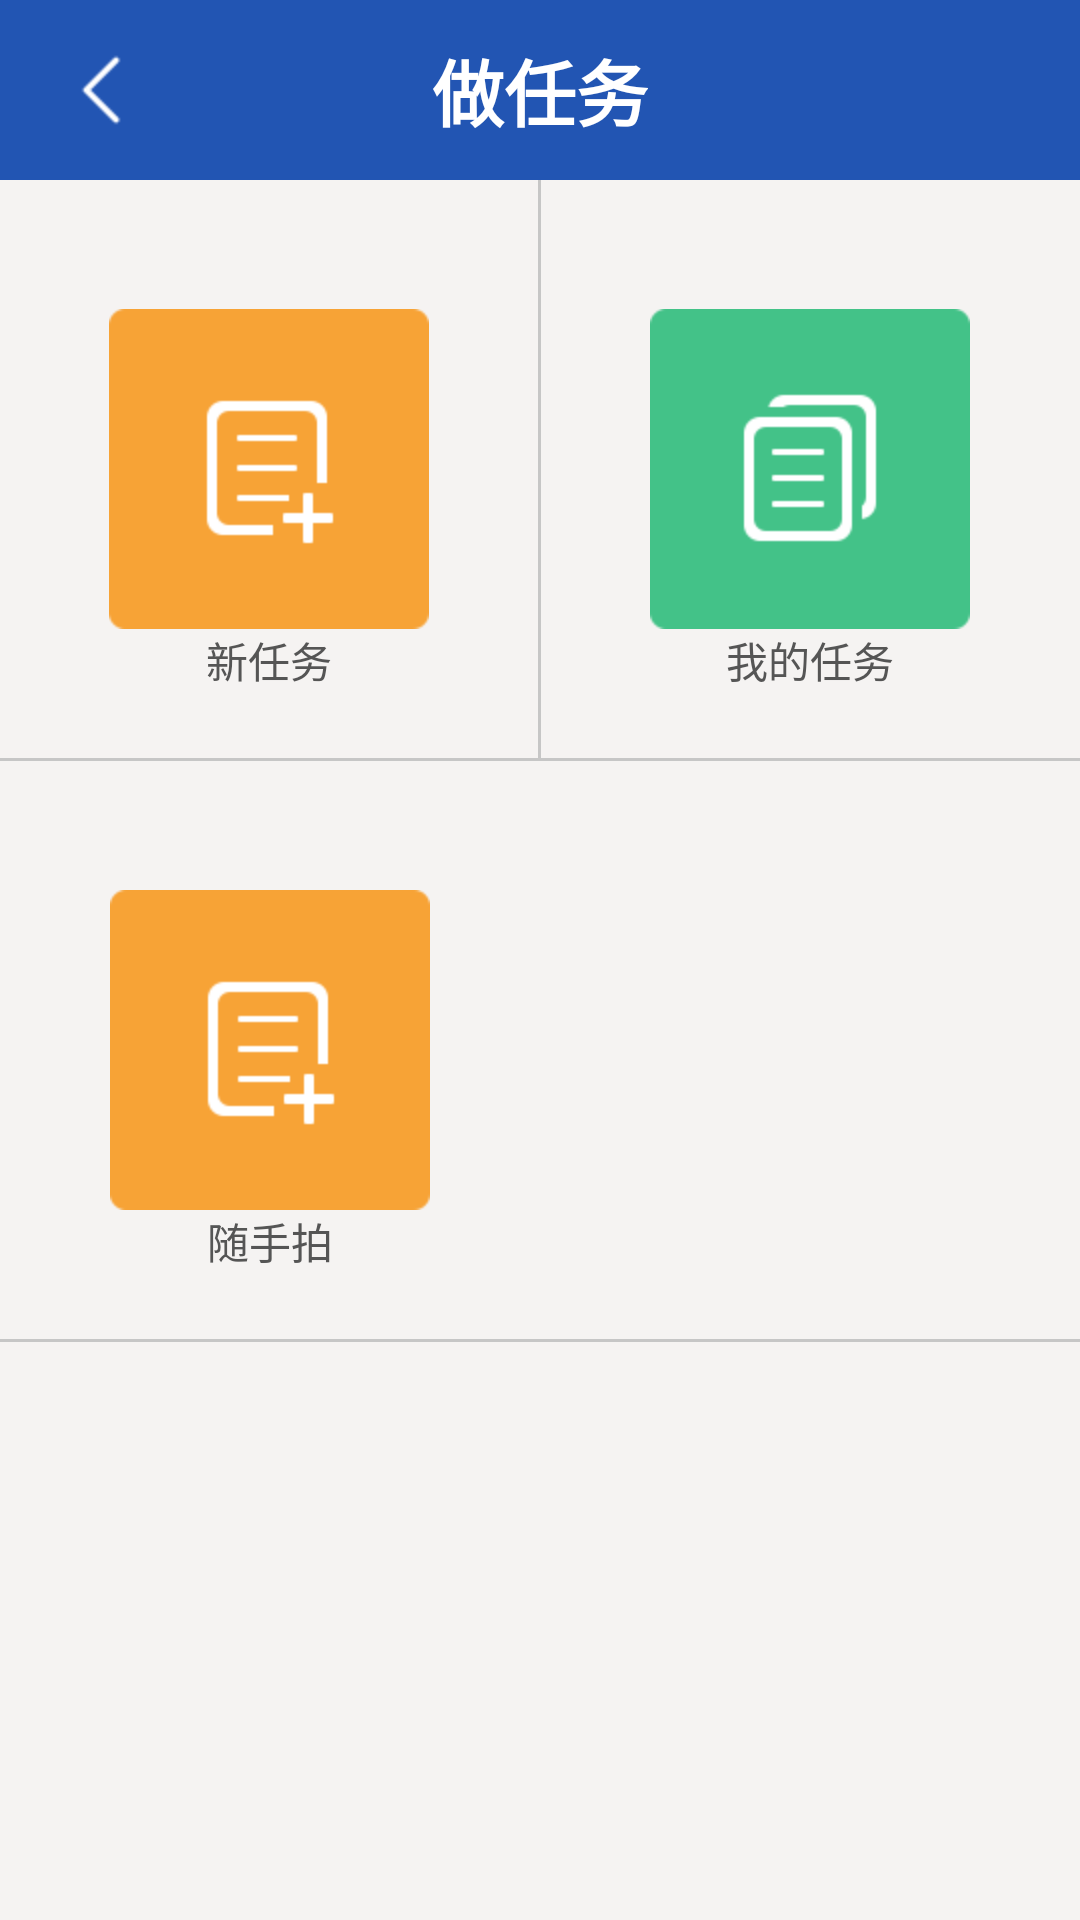

Screen size 1080px x 1920px. Icon name, then its center in pixels as [x,y]:
back: [101,90]
